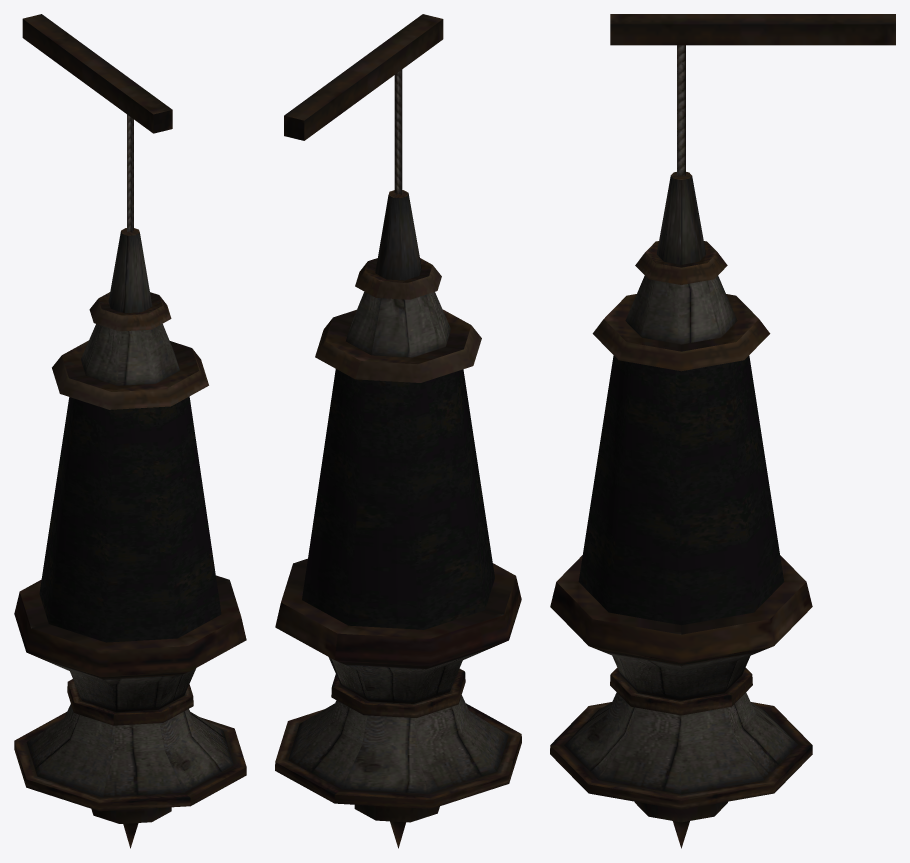
The model's file is elevator_lamp.dae.
The picture shows the model from 3 angles, left to right: view 1: azimuth 30°, elevation 25°; view 2: azimuth 150°, elevation 25°; view 3: azimuth 270°, elevation 25°; orthographic projection. The views are drawn at different scales.
Parts seen in each view (by area): view 1: polySurface152, polySurface153, pCube2; view 2: polySurface152, polySurface153, pCube2; view 3: polySurface152, polySurface153, pCube2.
Boxes of the visible parts, x1,y1,x2,y2 form: polySurface152: (14, 114, 246, 848); polySurface153: (39, 396, 221, 642); pCube2: (22, 14, 172, 133); polySurface152: (275, 69, 521, 848); polySurface153: (302, 369, 494, 629); pCube2: (284, 14, 443, 140); polySurface152: (550, 45, 812, 848); polySurface153: (578, 355, 784, 625); pCube2: (610, 14, 895, 45).
Bounding box in the file's own units: 0.3684 × 1.28 × 0.4849.
